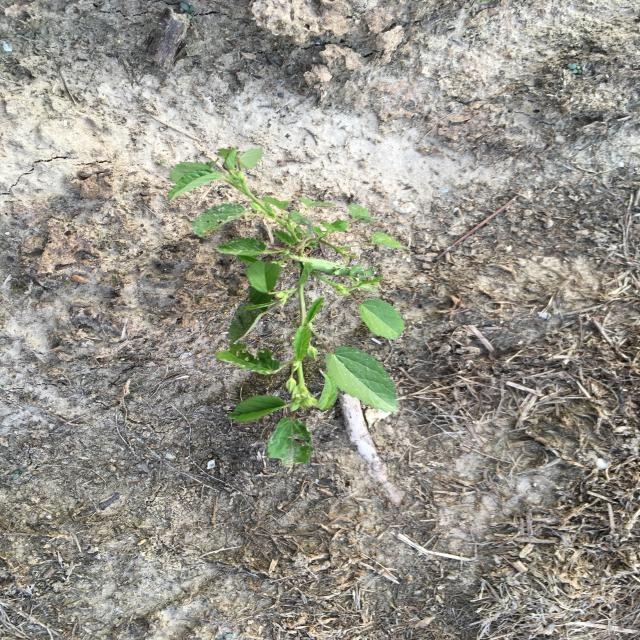PricklySida: (164, 145, 412, 469)
